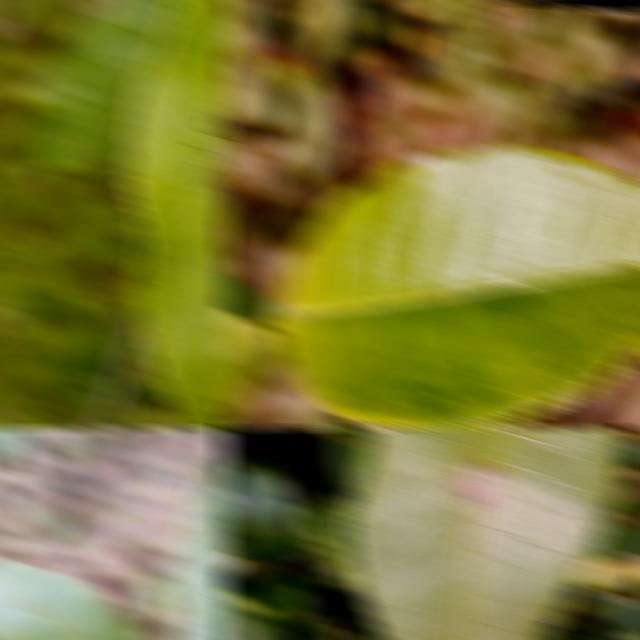Leaf: (267, 144, 640, 429), (344, 426, 627, 640), (122, 0, 230, 430), (20, 0, 179, 183), (0, 555, 146, 640), (218, 458, 299, 563), (218, 570, 311, 640), (291, 69, 342, 191), (291, 500, 361, 586), (295, 0, 343, 71), (591, 498, 640, 563), (331, 426, 376, 494)
